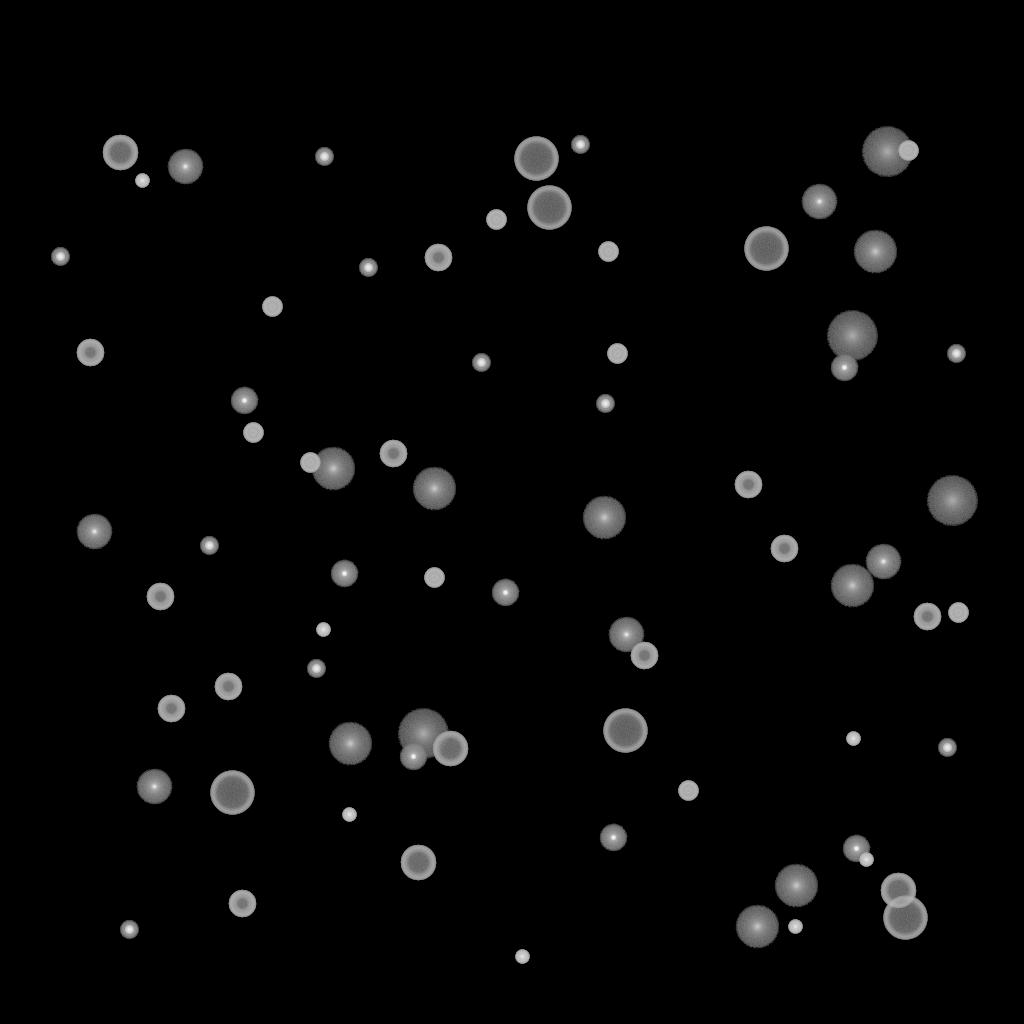depth:-10: (830, 354, 858, 382), (330, 560, 358, 588), (599, 824, 627, 852), (230, 387, 258, 415), (842, 835, 870, 863), (491, 579, 519, 607), (399, 743, 427, 771)
depth:-20: (51, 248, 69, 266), (472, 354, 490, 372), (359, 259, 377, 277), (938, 739, 956, 757), (120, 921, 138, 939), (596, 395, 614, 413), (947, 345, 965, 363), (307, 660, 325, 678), (315, 148, 333, 166), (571, 136, 589, 154), (200, 537, 218, 555)
depth:-30: (859, 853, 873, 867), (846, 732, 860, 746), (316, 623, 330, 637), (788, 920, 802, 934), (515, 950, 529, 964), (135, 174, 149, 188), (342, 808, 356, 822)
depth:-40: (300, 453, 320, 473), (678, 781, 698, 801), (607, 344, 627, 364), (424, 568, 444, 588), (898, 141, 918, 161), (486, 210, 506, 230), (243, 423, 263, 443), (948, 603, 968, 623), (598, 242, 618, 262), (262, 297, 282, 317)
depth:-50: (913, 603, 941, 631), (146, 583, 174, 611), (770, 535, 798, 563), (734, 471, 762, 499), (379, 440, 407, 468), (214, 673, 242, 701), (76, 339, 104, 367), (630, 642, 658, 670), (228, 890, 256, 918), (424, 244, 452, 272), (157, 695, 185, 723)
depth:-60: (102, 135, 138, 171), (400, 845, 436, 881), (880, 873, 916, 909), (432, 731, 468, 767)
depth:-70: (603, 709, 647, 753), (744, 227, 788, 271), (514, 137, 558, 181), (527, 186, 571, 230), (210, 771, 254, 815), (883, 896, 927, 940)
depth:0: (865, 544, 901, 580), (136, 769, 172, 805), (608, 617, 644, 653), (76, 514, 112, 550), (801, 184, 837, 220), (167, 149, 203, 185)
depth:10: (311, 447, 355, 491), (853, 230, 897, 274), (830, 564, 874, 608), (582, 496, 626, 540), (412, 467, 456, 511), (735, 905, 779, 949), (328, 722, 372, 766), (774, 864, 818, 908)
depth:20: (826, 311, 878, 361), (397, 709, 449, 759), (861, 127, 913, 177), (926, 476, 978, 526)
